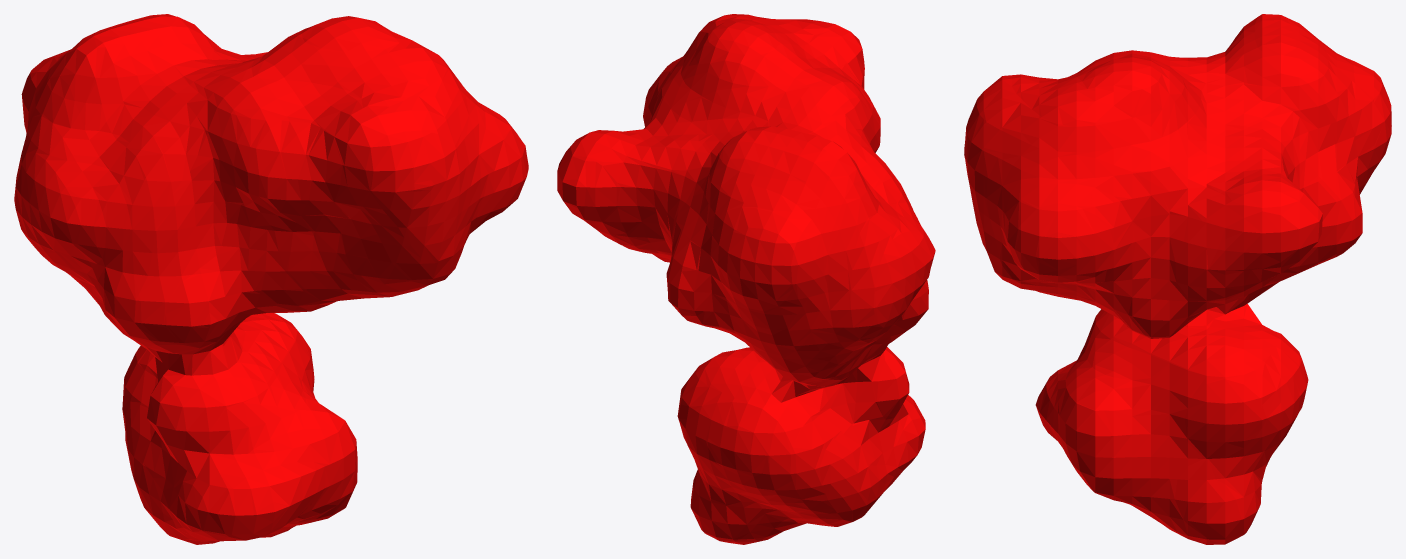
Rendered from ruvA_coarse.dae.
The picture shows the model from 3 angles, left to right: view 1: azimuth 30°, elevation 25°; view 2: azimuth 150°, elevation 25°; view 3: azimuth 270°, elevation 25°; orthographic projection. The views are drawn at different scales.
Parts seen in each view (by area): view 1: ruvA; view 2: ruvA; view 3: ruvA.
Part boxes in pixels (left/top/right/bottom): ruvA: left=14, top=14, right=528, bottom=544; ruvA: left=557, top=14, right=935, bottom=544; ruvA: left=964, top=14, right=1391, bottom=544.
Bounding box in the file's own units: 46.48 × 59.63 × 46.7.
